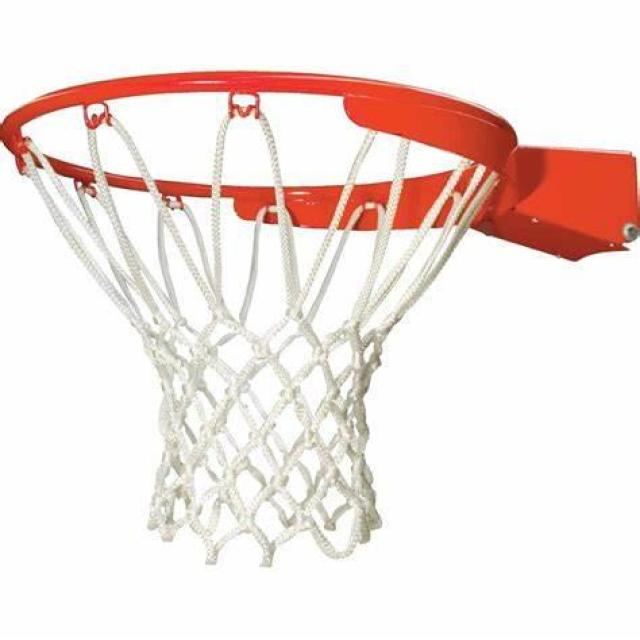hoop: (5, 60, 613, 556)
